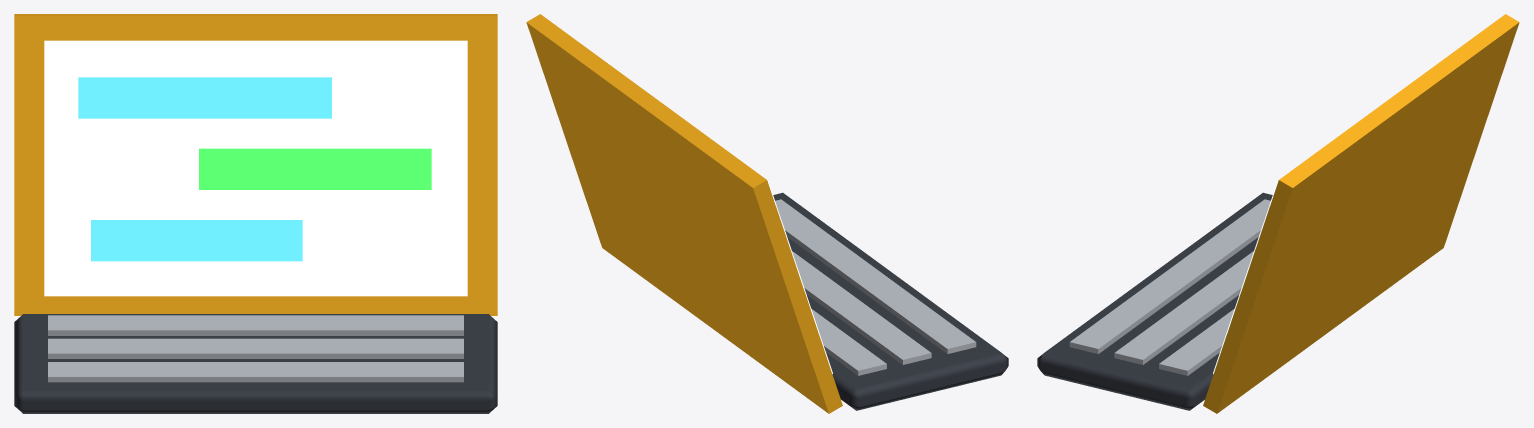
Rendered from station_special_ausstattung_1_2.glb.
The picture shows the model from 3 angles, left to right: view 1: azimuth 30°, elevation 25°; view 2: azimuth 150°, elevation 25°; view 3: azimuth 270°, elevation 25°; orthographic projection. The views are drawn at different scales.
Visible parts, largest first — view 1: station_special_ausstattung_1_2; view 2: station_special_ausstattung_1_2; view 3: station_special_ausstattung_1_2.
Boxes of the visible parts, x1,y1,x2,y2 form: station_special_ausstattung_1_2: [14, 14, 497, 413]; station_special_ausstattung_1_2: [526, 14, 1008, 413]; station_special_ausstattung_1_2: [1037, 14, 1519, 413].
Bounding box in the file's own units: 0.3799 × 0.2 × 0.3403.
